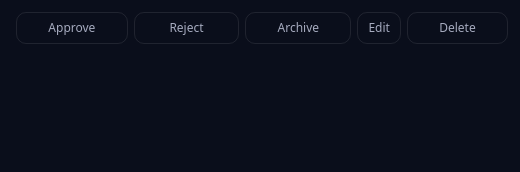
it: row actions (review moderation) › a validation error from the server is shown and the row is usable again
Click the button "Approve" at (72, 28), box [16,12,128,44]
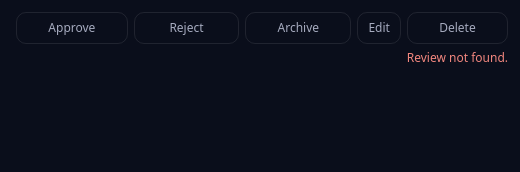
Expected: the message reads "Review not found.", [407,49,508,66]
